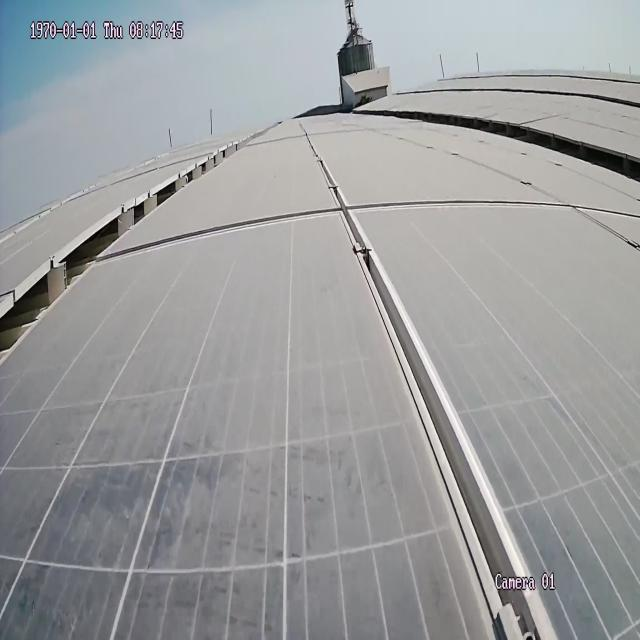interior panel: (302, 142, 556, 618), (128, 191, 599, 264)
outher panel: (0, 135, 239, 368), (394, 109, 628, 188)
